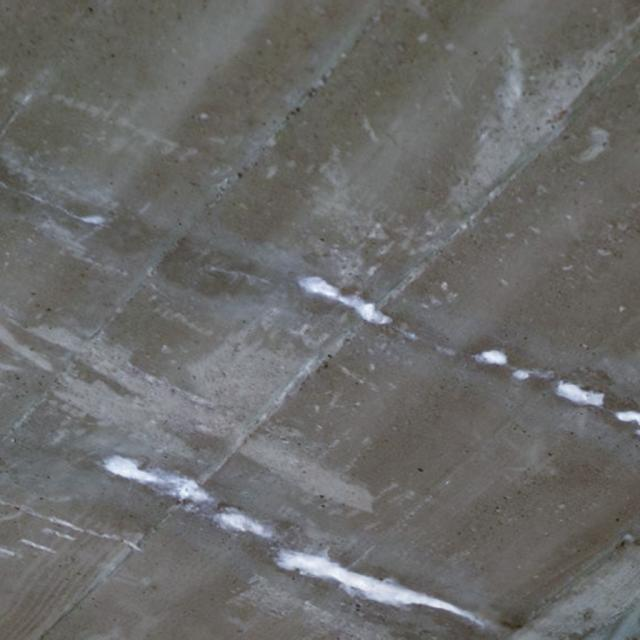D01: (274, 550, 501, 637), (518, 534, 639, 639), (102, 458, 213, 509), (302, 278, 393, 324), (558, 382, 604, 409)
